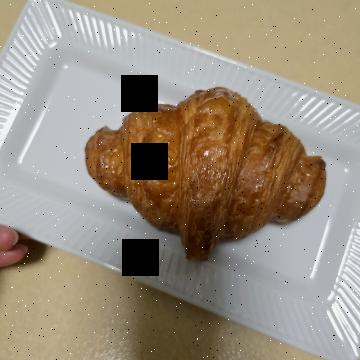croissant: (88, 33, 286, 296)
